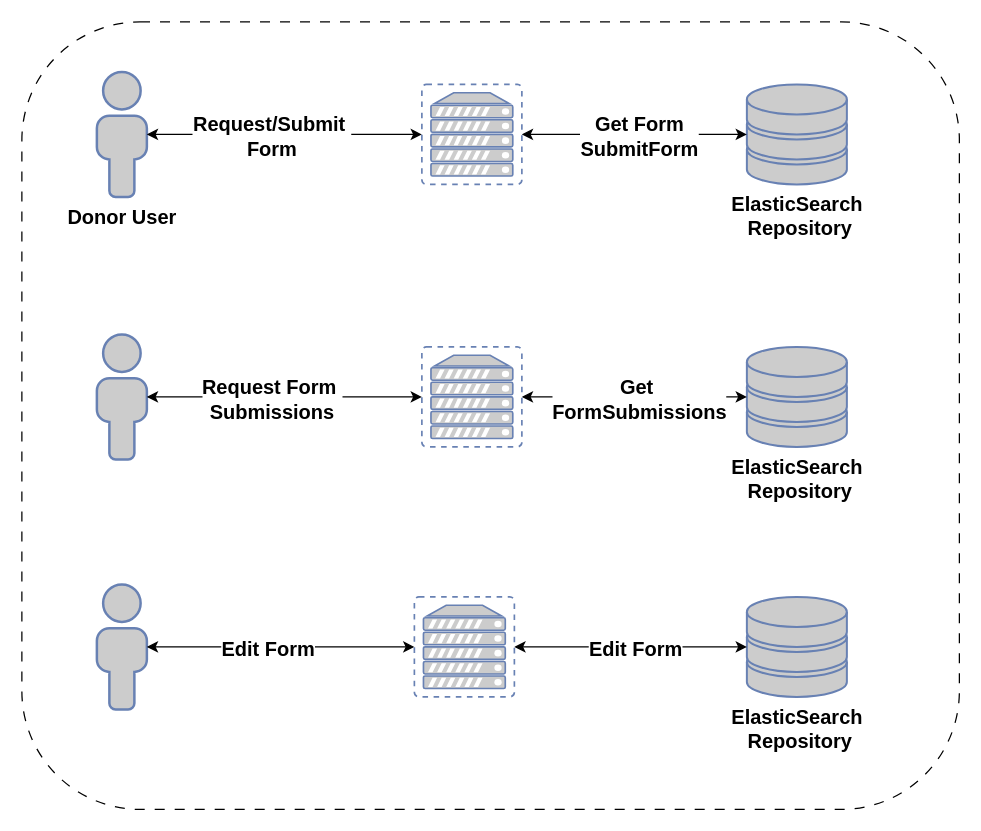
Some shapes in this 981 by 831 pixel diagram are drawn without their labels. Here are the shapes that lost their labels. From the top down, the box of each, then its label:
(95, 332, 148, 460): Doctor User
(95, 582, 148, 710): Administrator User
